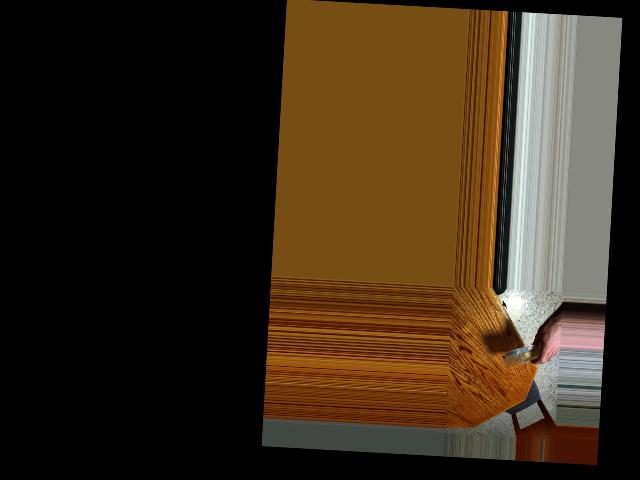cheese: (507, 341, 541, 371)
